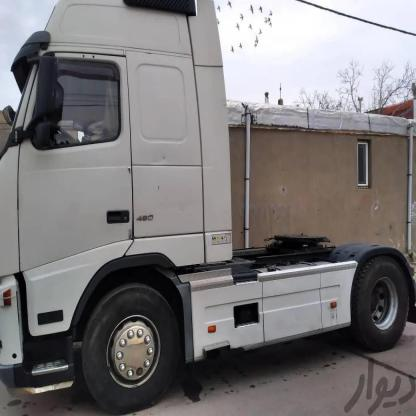Truck: (0, 0, 416, 413)
